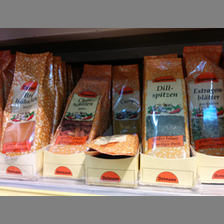spices: (50, 65, 111, 153), (2, 51, 54, 154), (143, 56, 189, 159), (183, 45, 224, 156), (112, 64, 140, 134)
